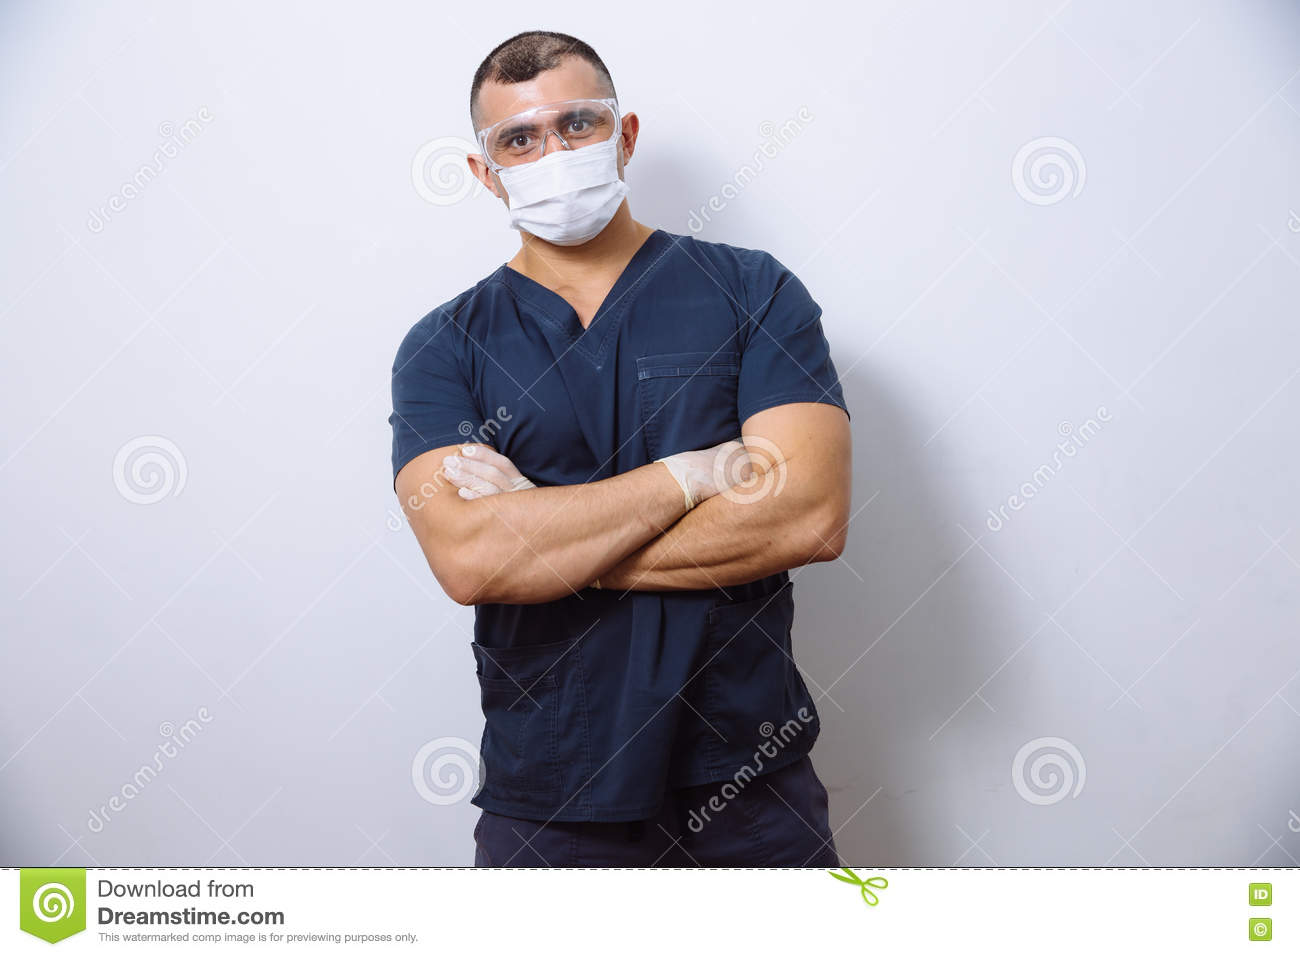mask: (491, 151, 641, 270)
